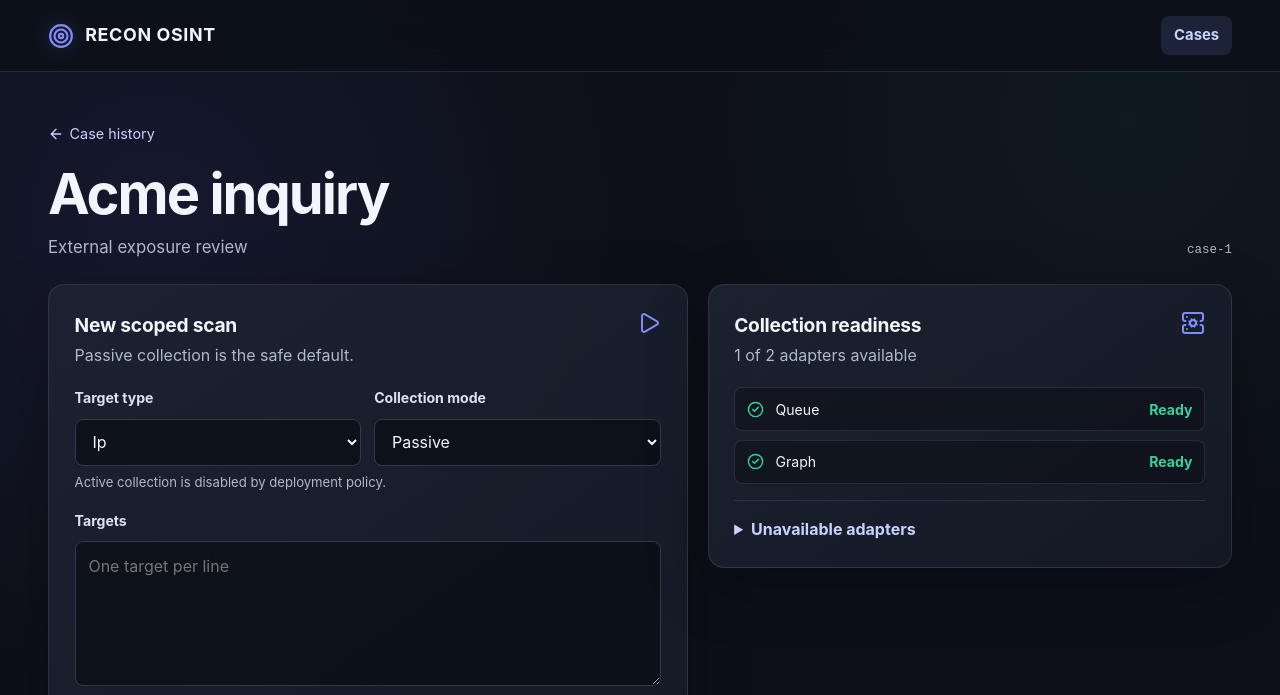
it: preflights capabilities and creates a passive scan
Expected: the heading "Acme inquiry" is shown, 48,165 -> 388,224
Expected: the text "1 of 2 adapters available" is shown, 734,343 -> 921,367
Select "Ip" in the dropdown labelled "Target type": (218, 442) 75,419 -> 361,466
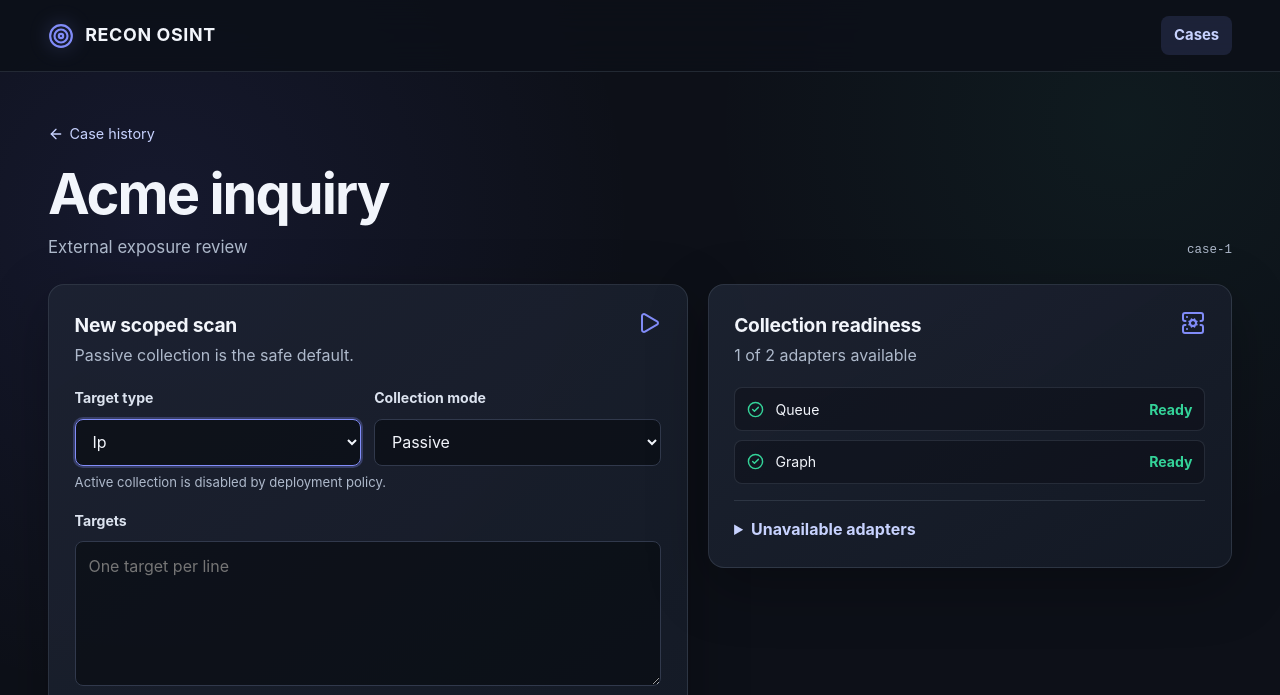
In the text box labelled "Targets": (368, 614) 75,541 -> 661,686, type "203.0.113.10"
(page scrolled)
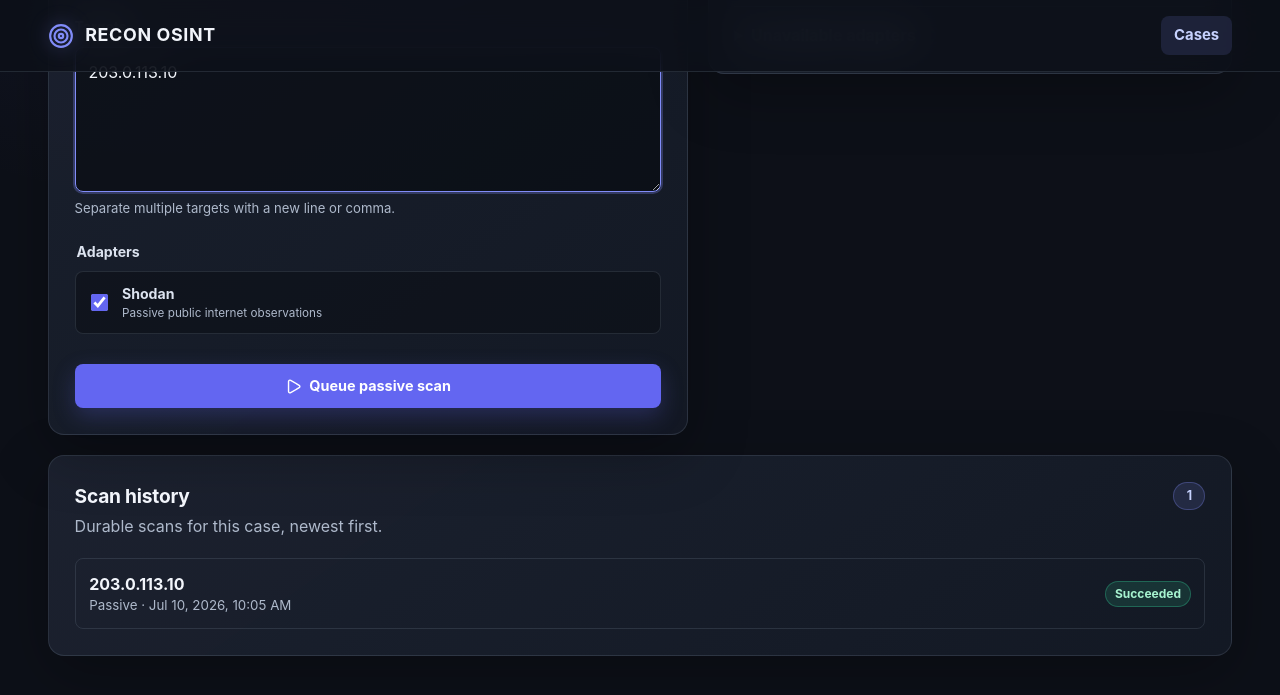
Click the button "Queue passive scan": (368, 386) 75,364 -> 661,408
(page scrolled)
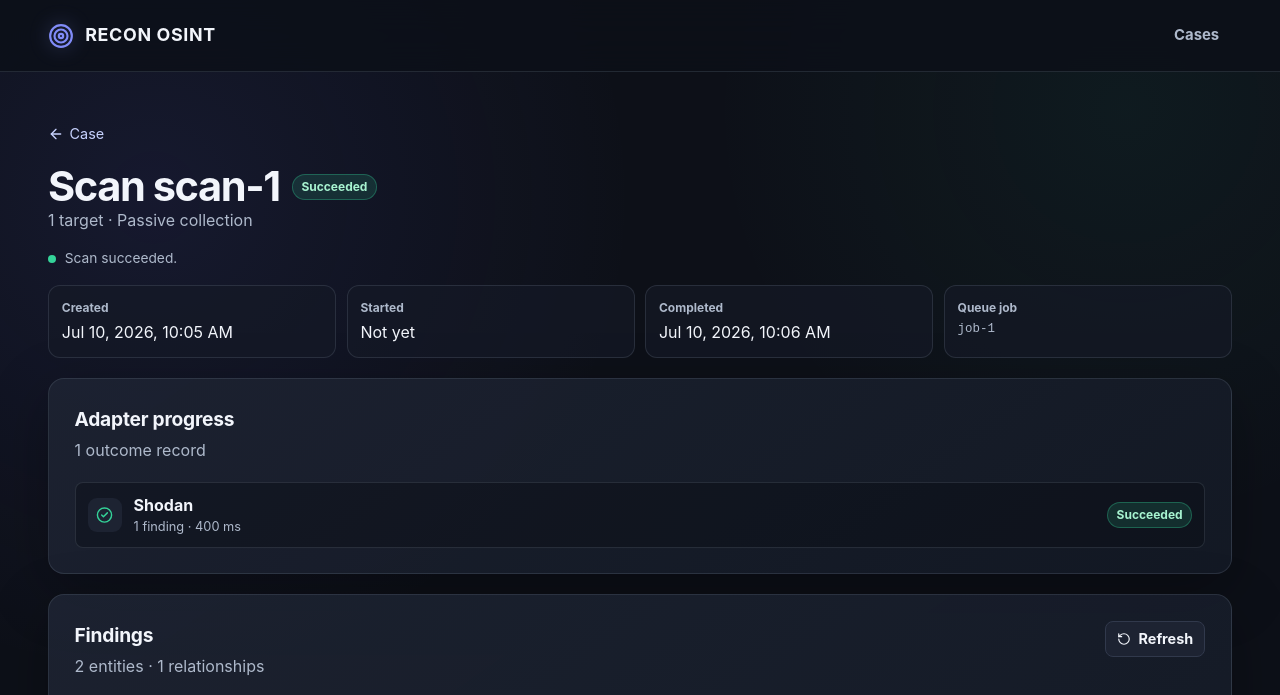
Result: the heading "Scan scan-1" is shown at 48,165 -> 280,208
